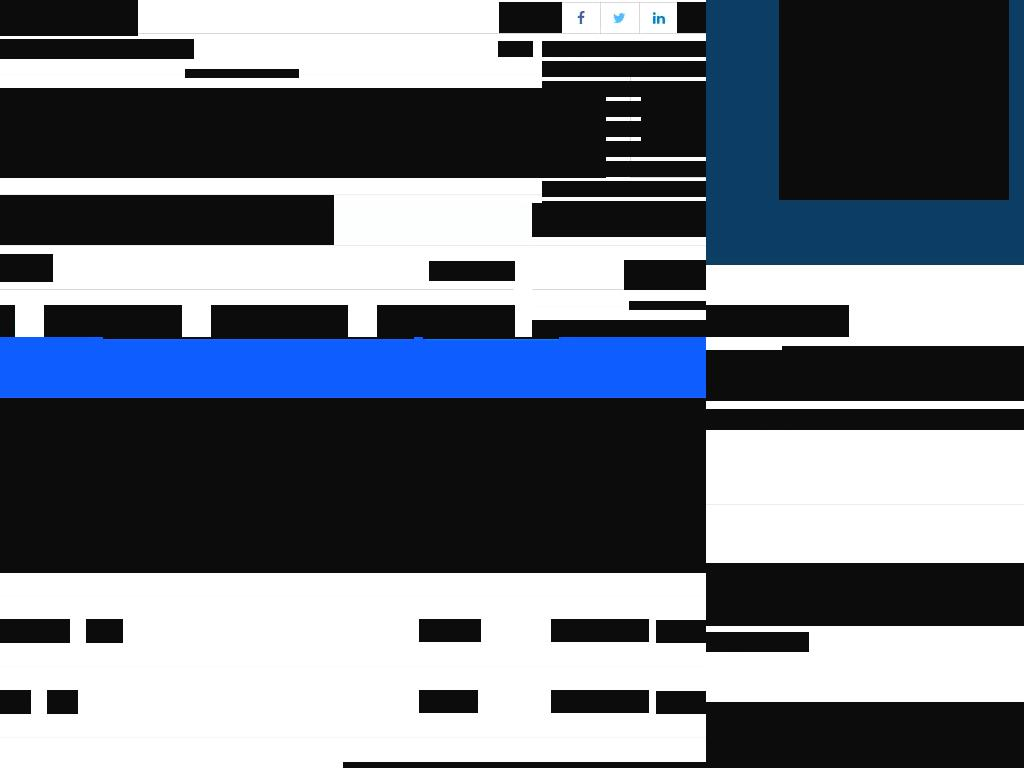button: (159, 195, 250, 245), (44, 305, 182, 337), (377, 305, 515, 337), (211, 305, 348, 337), (75, 195, 160, 245), (249, 195, 334, 245), (782, 383, 1024, 400), (2, 195, 76, 245), (706, 350, 772, 397), (343, 762, 706, 768), (624, 260, 692, 290), (499, 2, 562, 33), (677, 2, 706, 33), (690, 260, 706, 290)
field: (532, 203, 706, 237)
heading: (706, 563, 1024, 626), (782, 346, 1024, 395), (706, 305, 849, 337), (551, 477, 649, 500), (551, 548, 649, 571), (551, 619, 649, 642), (551, 690, 649, 713), (419, 477, 498, 500), (0, 619, 70, 643), (419, 548, 490, 571), (419, 619, 481, 642), (419, 690, 478, 713), (0, 548, 44, 572), (86, 619, 123, 643), (38, 477, 71, 501), (60, 548, 93, 572), (0, 690, 31, 714), (47, 690, 78, 714), (0, 477, 22, 501)
image: (0, 398, 706, 573), (779, 0, 1009, 200), (706, 350, 1024, 401), (0, 0, 138, 36), (44, 305, 182, 337), (377, 305, 515, 337), (211, 305, 348, 337), (656, 478, 706, 501), (656, 549, 706, 572), (656, 620, 706, 643), (656, 691, 706, 714)
label: (551, 415, 602, 437), (651, 415, 687, 437), (419, 415, 452, 437)
link: (706, 702, 1024, 754), (542, 41, 706, 57), (542, 61, 706, 77), (542, 81, 706, 97), (542, 101, 706, 117), (542, 121, 706, 137), (542, 141, 706, 157), (542, 161, 706, 177), (542, 181, 706, 197), (542, 201, 706, 217), (542, 221, 706, 237), (641, 117, 706, 133), (641, 137, 706, 153), (498, 41, 528, 57)
text: (0, 88, 606, 178), (706, 734, 1024, 768), (706, 409, 1024, 430), (706, 702, 1008, 722), (0, 39, 194, 59), (706, 632, 809, 652), (429, 261, 515, 281), (0, 254, 53, 282), (641, 97, 706, 113), (185, 69, 299, 78), (174, 212, 225, 228), (90, 212, 135, 228), (264, 212, 309, 228), (629, 301, 706, 310), (17, 212, 51, 228), (656, 268, 682, 282), (527, 41, 533, 57)
